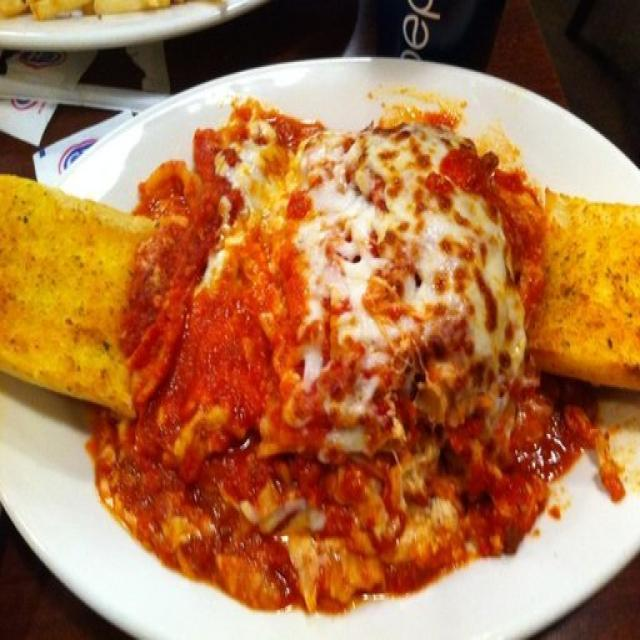Lasagna: (140, 99, 549, 535)
